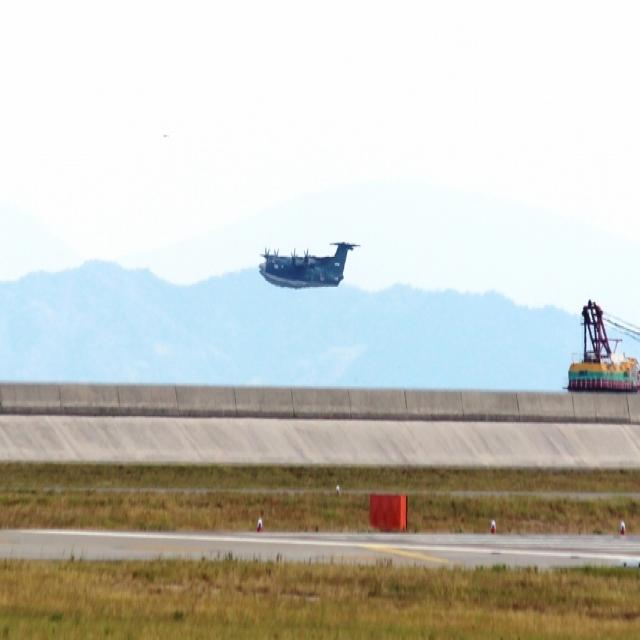MIL_Plane: (257, 240, 361, 290)
